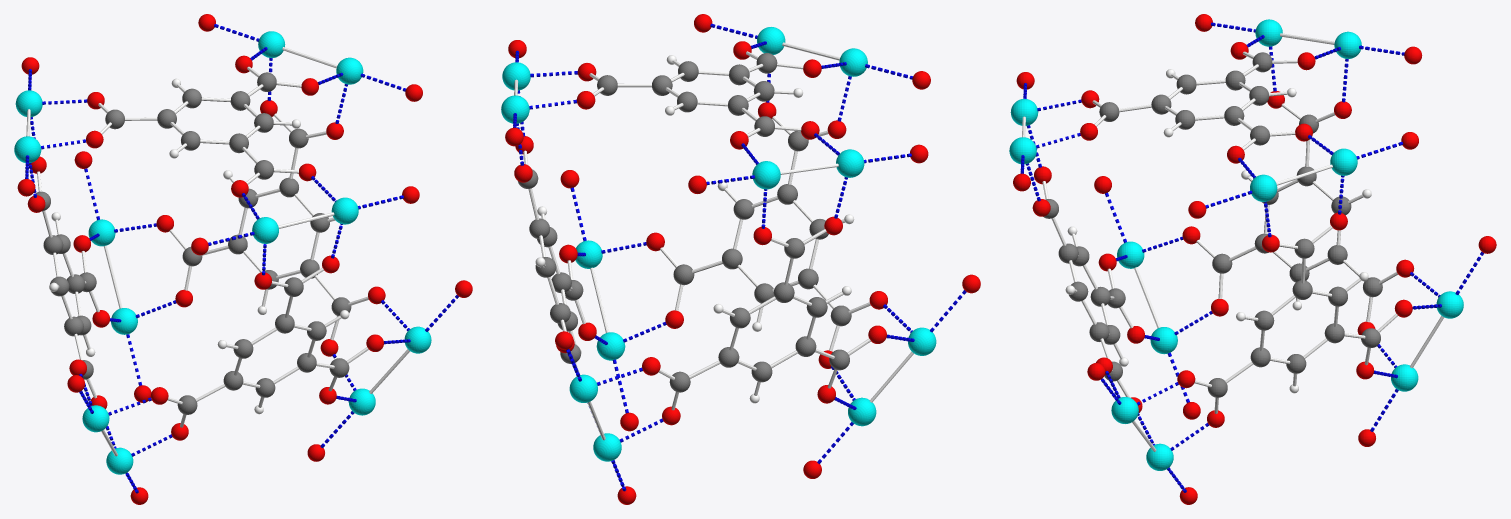
The model's file is HKUST-1_small-Pore-compressed.glb.
The picture shows the model from 3 angles, left to right: view 1: azimuth 30°, elevation 25°; view 2: azimuth 150°, elevation 25°; view 3: azimuth 270°, elevation 25°; orthographic projection. The views are drawn at different scales.
Parts seen in each view (by area): view 1: mesh_23, mesh_22, mesh_87, mesh_92, mesh_18, mesh_86, mesh_90, mesh_20, mesh_84, mesh_21, mesh_19, mesh_85; view 2: mesh_20, mesh_21, mesh_85, mesh_90, mesh_22, mesh_92, mesh_86, mesh_19, mesh_18, mesh_84, mesh_23, mesh_87; view 3: mesh_19, mesh_18, mesh_90, mesh_84, mesh_87, mesh_20, mesh_85, mesh_22, mesh_23, mesh_21, mesh_92, mesh_86.
Part boxes in pixels (bbox=[...]): mesh_23: bbox=[331, 197, 358, 224]; mesh_22: bbox=[252, 217, 278, 243]; mesh_87: bbox=[404, 326, 431, 353]; mesh_92: bbox=[82, 405, 109, 432]; mesh_18: bbox=[336, 57, 363, 84]; mesh_86: bbox=[106, 447, 133, 474]; mesh_90: bbox=[88, 219, 115, 246]; mesh_20: bbox=[15, 90, 42, 116]; mesh_84: bbox=[348, 388, 375, 415]; mesh_21: bbox=[14, 136, 41, 163]; mesh_19: bbox=[258, 31, 285, 57]; mesh_85: bbox=[111, 308, 137, 334]; mesh_20: bbox=[752, 161, 780, 189]; mesh_21: bbox=[836, 149, 864, 177]; mesh_85: bbox=[593, 433, 621, 461]; mesh_90: bbox=[569, 374, 597, 402]; mesh_22: bbox=[839, 48, 867, 76]; mesh_92: bbox=[908, 327, 936, 355]; mesh_86: bbox=[848, 397, 876, 426]; mesh_19: bbox=[501, 95, 529, 123]; mesh_18: bbox=[502, 62, 530, 90]; mesh_84: bbox=[596, 332, 625, 360]; mesh_23: bbox=[757, 27, 785, 54]; mesh_87: bbox=[575, 240, 602, 268]; mesh_19: bbox=[1330, 148, 1357, 175]; mesh_18: bbox=[1250, 174, 1277, 201]; mesh_90: bbox=[1436, 291, 1463, 318]; mesh_84: bbox=[1146, 443, 1173, 470]; mesh_87: bbox=[1111, 397, 1138, 423]; mesh_20: bbox=[1334, 31, 1361, 58]; mesh_85: bbox=[1391, 364, 1418, 391]; mesh_22: bbox=[1010, 98, 1038, 125]; mesh_23: bbox=[1009, 137, 1036, 164]; mesh_21: bbox=[1255, 19, 1282, 46]; mesh_92: bbox=[1117, 241, 1144, 268]; mesh_86: bbox=[1150, 327, 1177, 354].
Bounding box in the file's own units: 0.133 × 0.1174 × 0.1384.
